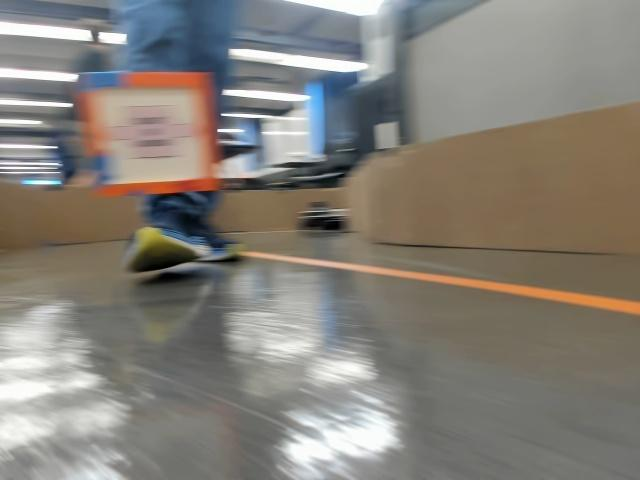Do Not Go Around: (100, 108, 194, 161)
